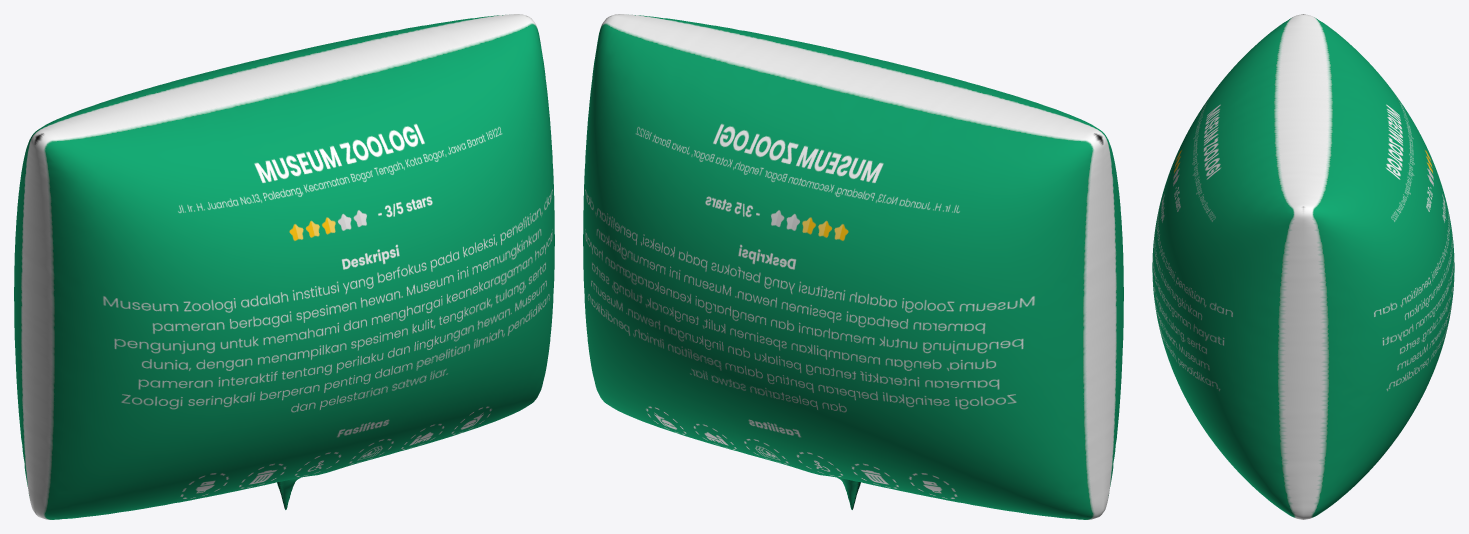
File: meseum-zoologi.glb
3 renders of one model, left to right at view 1: azimuth 30°, elevation 25°; view 2: azimuth 150°, elevation 25°; view 3: azimuth 270°, elevation 25°, orthographic. The views are drawn at different scales.
Bounding box in the file's own units: 9.5 × 7.93 × 6.1.
Materials: 1 (1 with a texture image).
